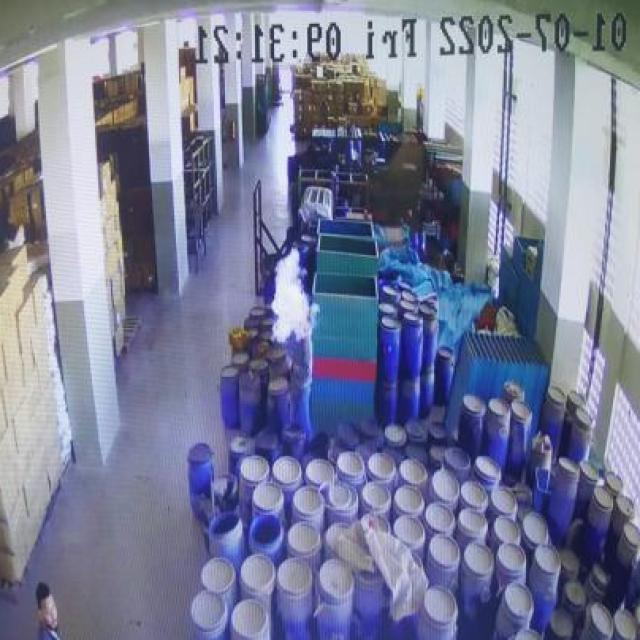fire: (268, 242, 322, 347)
